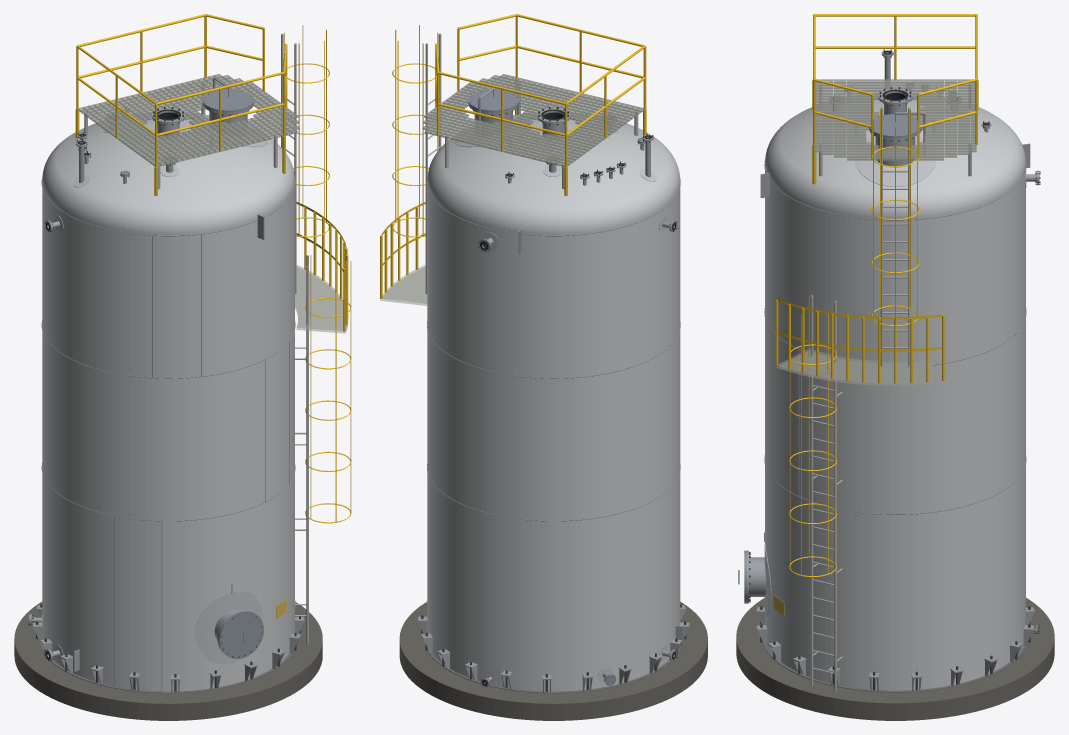
File: tank.glb
3 views of the same model, side by side, from view 1: azimuth 30°, elevation 25°; view 2: azimuth 150°, elevation 25°; view 3: azimuth 270°, elevation 25° (orthographic). The views are drawn at different scales.
Visible parts, largest first — view 1: Shell_Course_1_Outer, Shell_Course_2_Outer, Shell_Course_3_Outer, Roof_Head_Outer, Foundation_Plinth, Roof_Platform, Roof_Platform_Handrail, Rest_Platform, Ladder_Lower_Cage, M1_Pad, Rest_Platform_Handrail, M1_Blind (+6 smaller); view 2: Shell_Course_1_Outer, Shell_Course_2_Outer, Shell_Course_3_Outer, Roof_Head_Outer, Foundation_Plinth, Roof_Platform, Roof_Platform_Handrail, Ladder_Upper_Cage, Rest_Platform_Handrail, Rest_Platform, Ladder_Upper_Rungs, M2_Blind (+2 smaller); view 3: Shell_Course_1_Outer, Shell_Course_2_Outer, Shell_Course_3_Outer, Roof_Head_Outer, Foundation_Plinth, Roof_Platform, Ladder_Lower_Rungs, Rest_Platform, Rest_Platform_Handrail, Roof_Platform_Handrail, Ladder_Lower_Cage, Ladder_Upper_Rungs (+7 smaller).
Part boxes in pixels (x1,y1,x2,y2): Shell_Course_1_Outer: [42, 473, 294, 691]; Shell_Course_2_Outer: [42, 331, 294, 520]; Shell_Course_3_Outer: [42, 188, 294, 377]; Roof_Head_Outer: [42, 114, 294, 233]; Foundation_Plinth: [14, 601, 322, 720]; Roof_Platform: [78, 74, 299, 166]; Roof_Platform_Handrail: [75, 14, 287, 195]; Rest_Platform: [295, 265, 348, 333]; Ladder_Lower_Cage: [305, 252, 351, 523]; M1_Pad: [195, 591, 262, 664]; Rest_Platform_Handrail: [296, 202, 348, 331]; M1_Blind: [218, 610, 263, 658]; Shell_Course_1_Outer: [427, 473, 680, 691]; Shell_Course_2_Outer: [427, 330, 680, 520]; Shell_Course_3_Outer: [427, 187, 680, 377]; Roof_Head_Outer: [427, 113, 679, 233]; Foundation_Plinth: [399, 601, 707, 720]; Roof_Platform: [422, 74, 643, 166]; Roof_Platform_Handrail: [435, 14, 646, 195]; Ladder_Upper_Cage: [392, 25, 438, 237]; Rest_Platform_Handrail: [380, 202, 425, 298]; Rest_Platform: [380, 265, 427, 305]; Ladder_Upper_Rungs: [425, 33, 441, 293]; M2_Blind: [468, 89, 519, 112]; Shell_Course_1_Outer: [765, 465, 1025, 690]; Shell_Course_2_Outer: [765, 318, 1025, 514]; Shell_Course_3_Outer: [765, 171, 1025, 366]; Roof_Head_Outer: [765, 97, 1025, 217]; Foundation_Plinth: [736, 598, 1054, 720]; Roof_Platform: [814, 79, 976, 160]; Ladder_Lower_Rungs: [810, 295, 842, 691]; Rest_Platform: [776, 348, 942, 385]; Rest_Platform_Handrail: [775, 299, 944, 383]; Roof_Platform_Handrail: [812, 14, 978, 184]; Ladder_Lower_Cage: [789, 297, 836, 577]; Ladder_Upper_Rungs: [880, 107, 910, 366].
Size of the model in its own units: 5.36 by 10.42 by 4.9.
